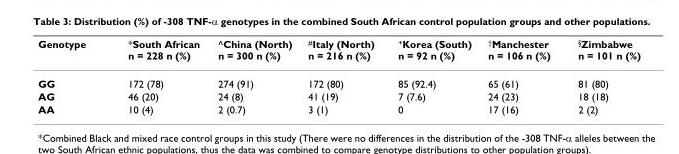table: (37, 37, 639, 114)
table column: (106, 37, 208, 114), (385, 37, 479, 114), (208, 37, 299, 114), (299, 37, 385, 114), (479, 37, 563, 114), (563, 37, 639, 114), (37, 37, 106, 114)
table column header: (37, 37, 639, 68)
table row: (37, 37, 639, 68), (37, 68, 639, 89), (37, 89, 639, 102), (37, 102, 639, 114)
